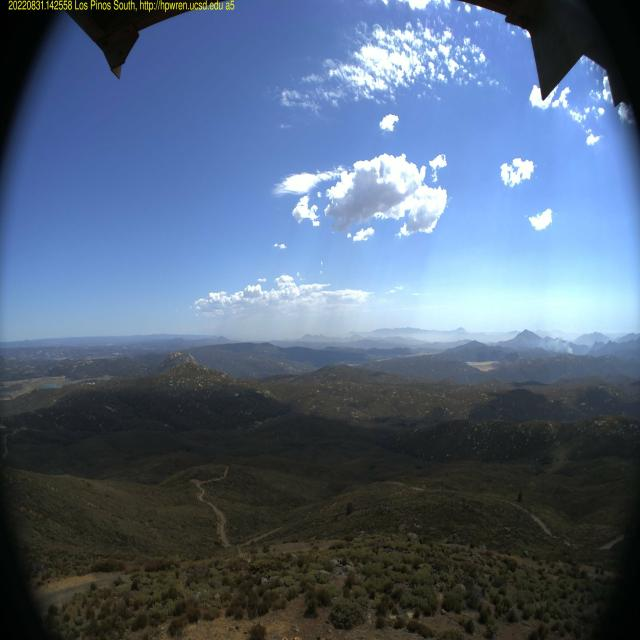smoke: (496, 335, 542, 351), (541, 339, 575, 354)
